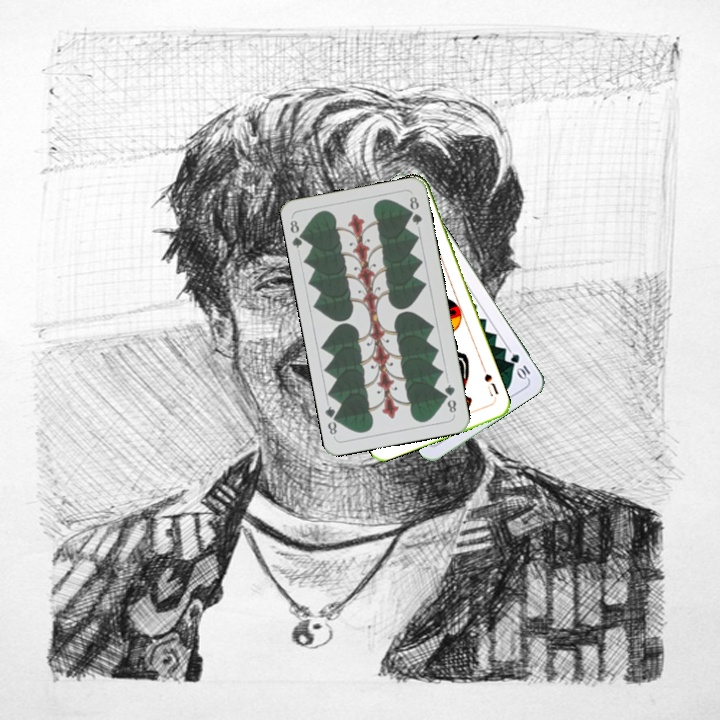G10: (506, 350, 533, 382)
G8: (286, 216, 309, 251), (440, 380, 459, 416)
SU: (479, 364, 501, 403)
